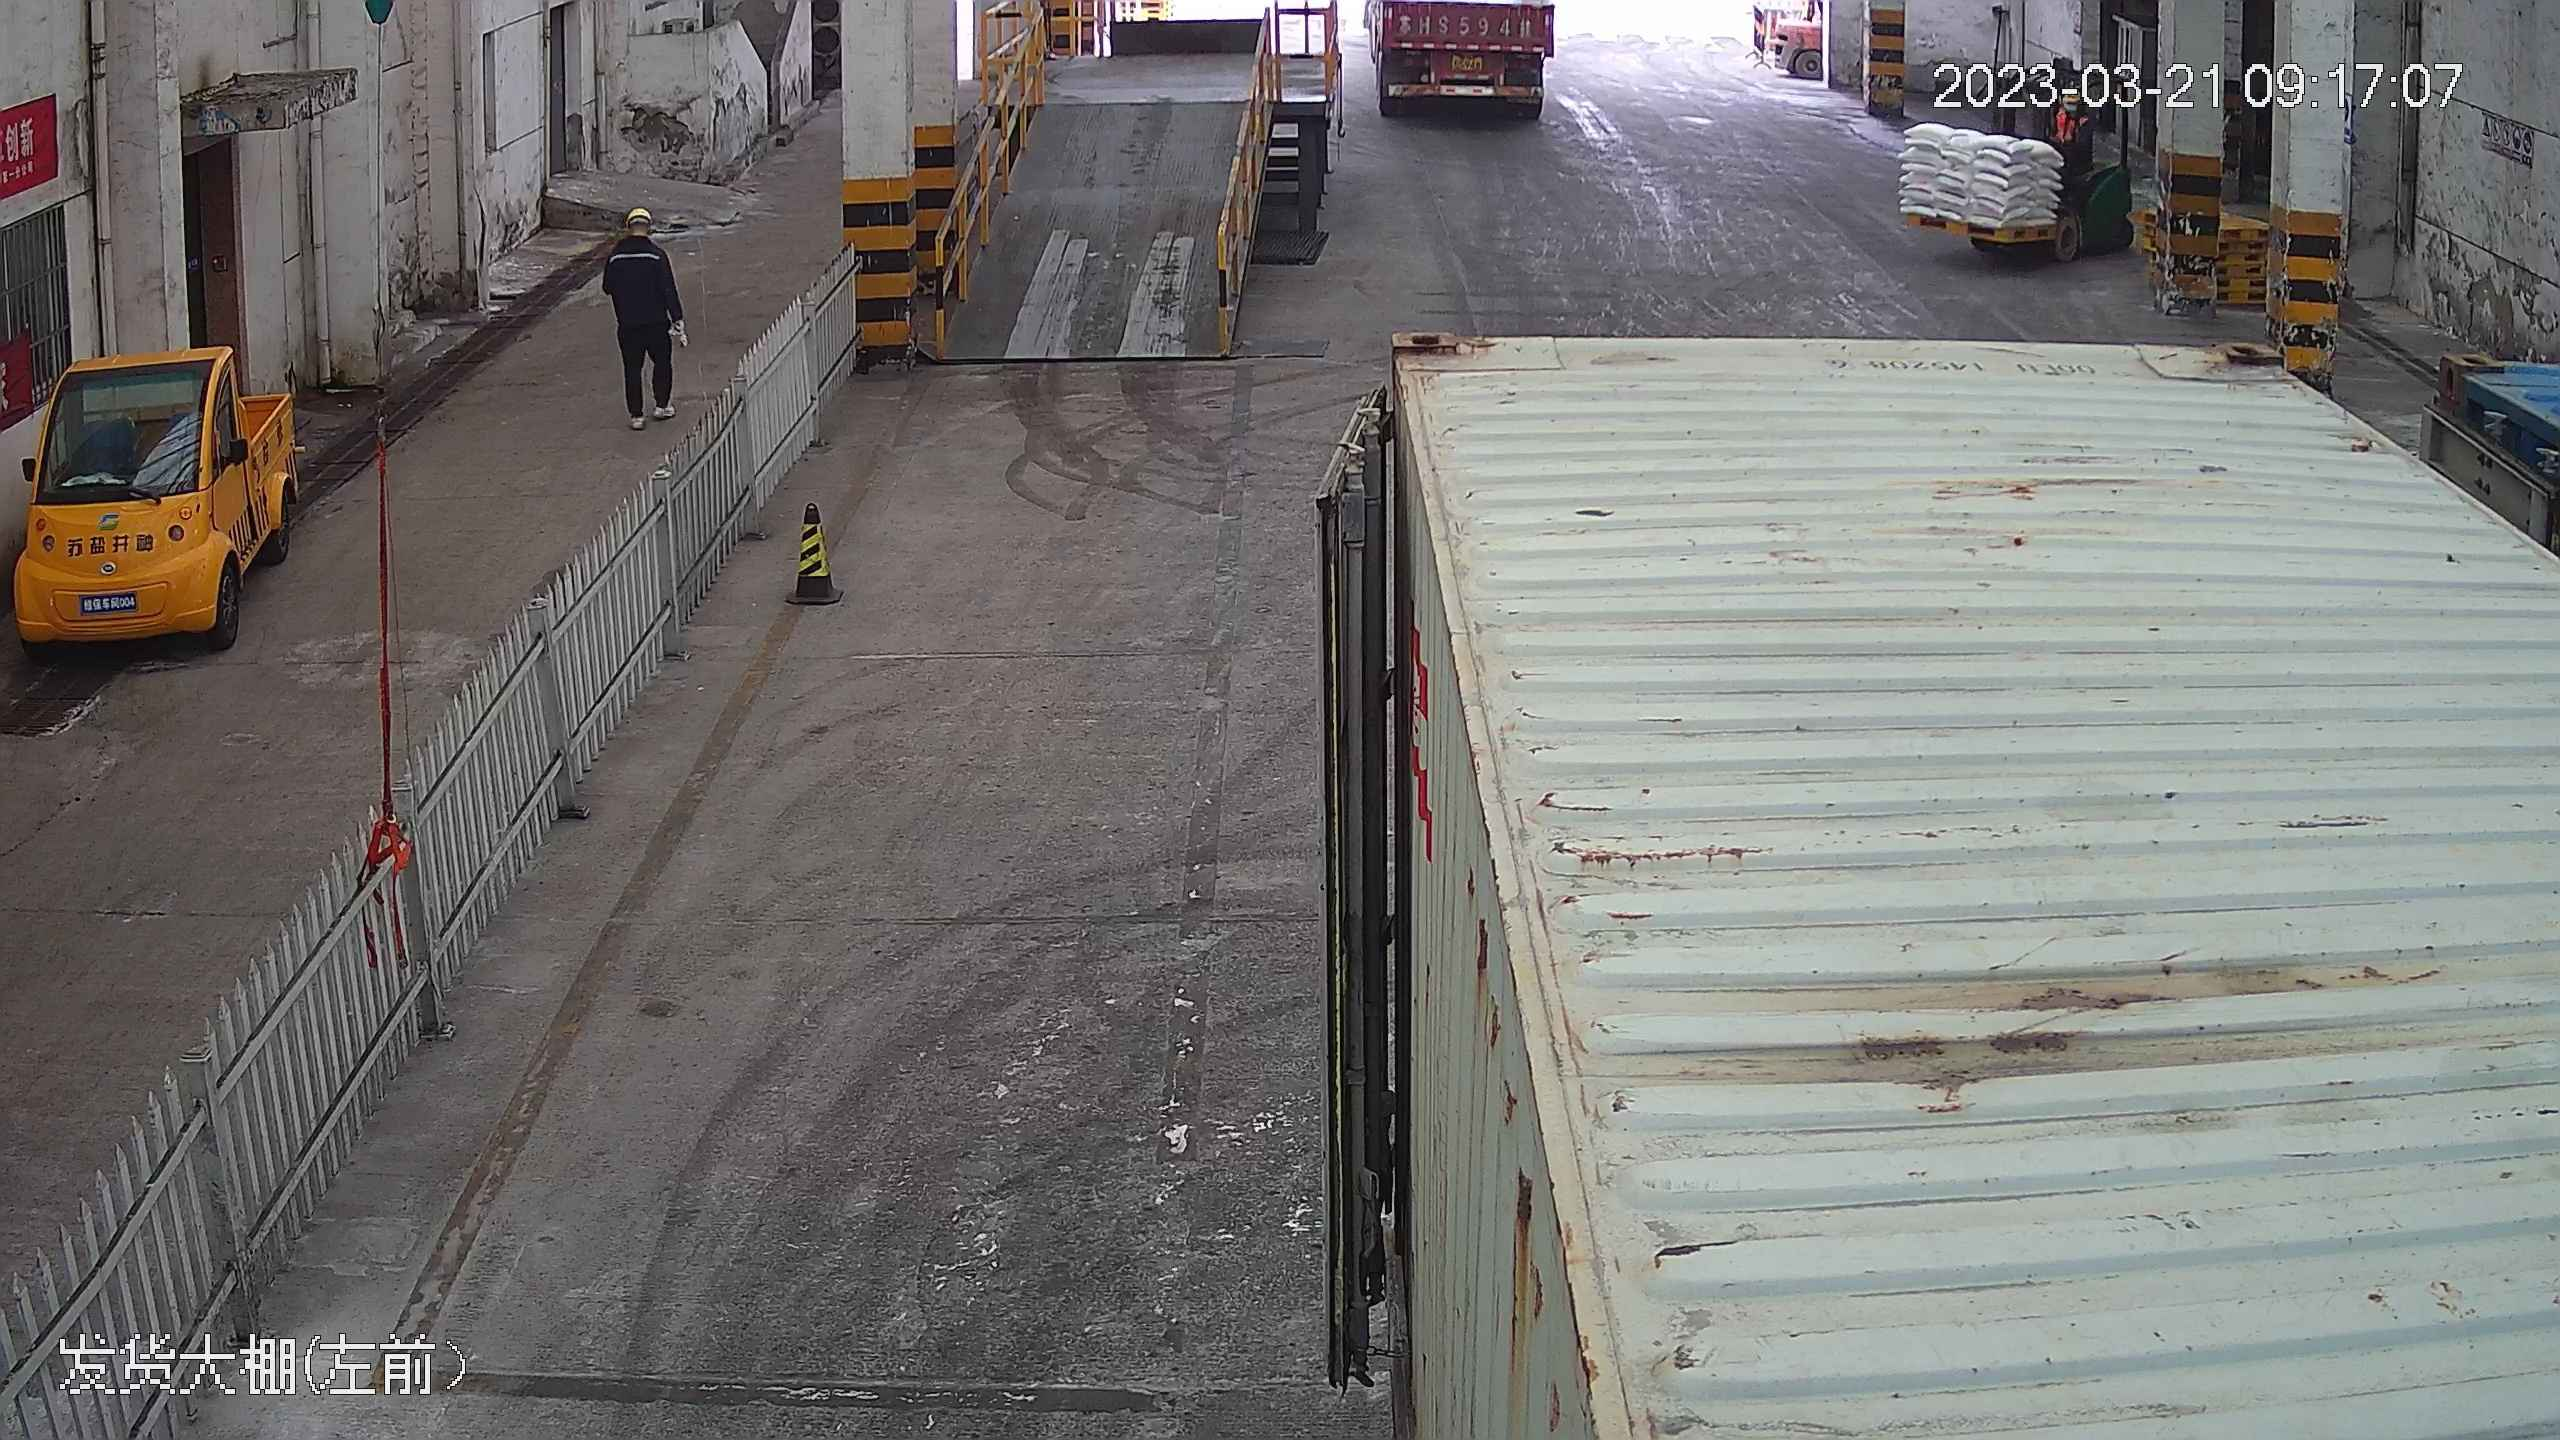head: (605, 203, 668, 271)
helmet: (618, 204, 654, 228)
people: (598, 199, 688, 425)
truck: (1274, 308, 2558, 1440)
